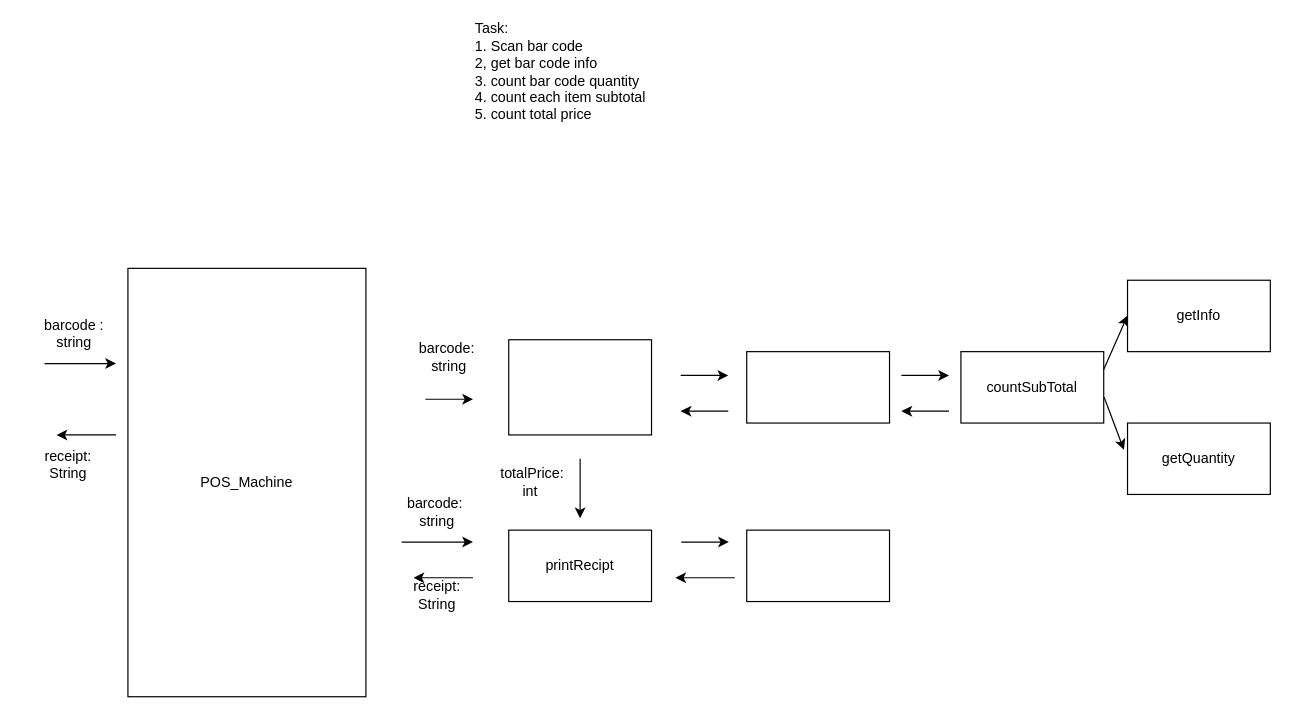
This 1291x718 diagram has some shape labels left out. The box of each missing label's shape, as (x1, y1, x2, y2) in pixels:
countTotal: (746, 350, 890, 423)
getItemInfo: (746, 529, 890, 602)
priceCalculation: (508, 339, 652, 435)
